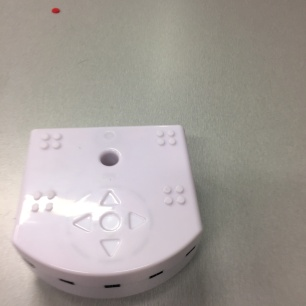thymio: (10, 120, 205, 303)
